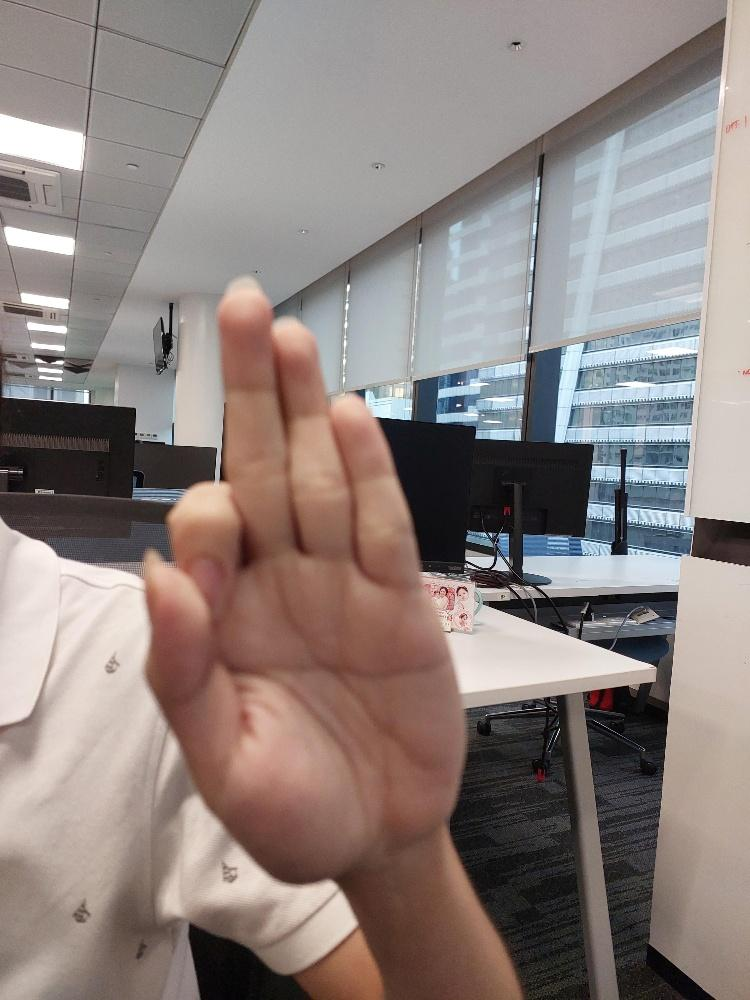f: (139, 269, 469, 889)
